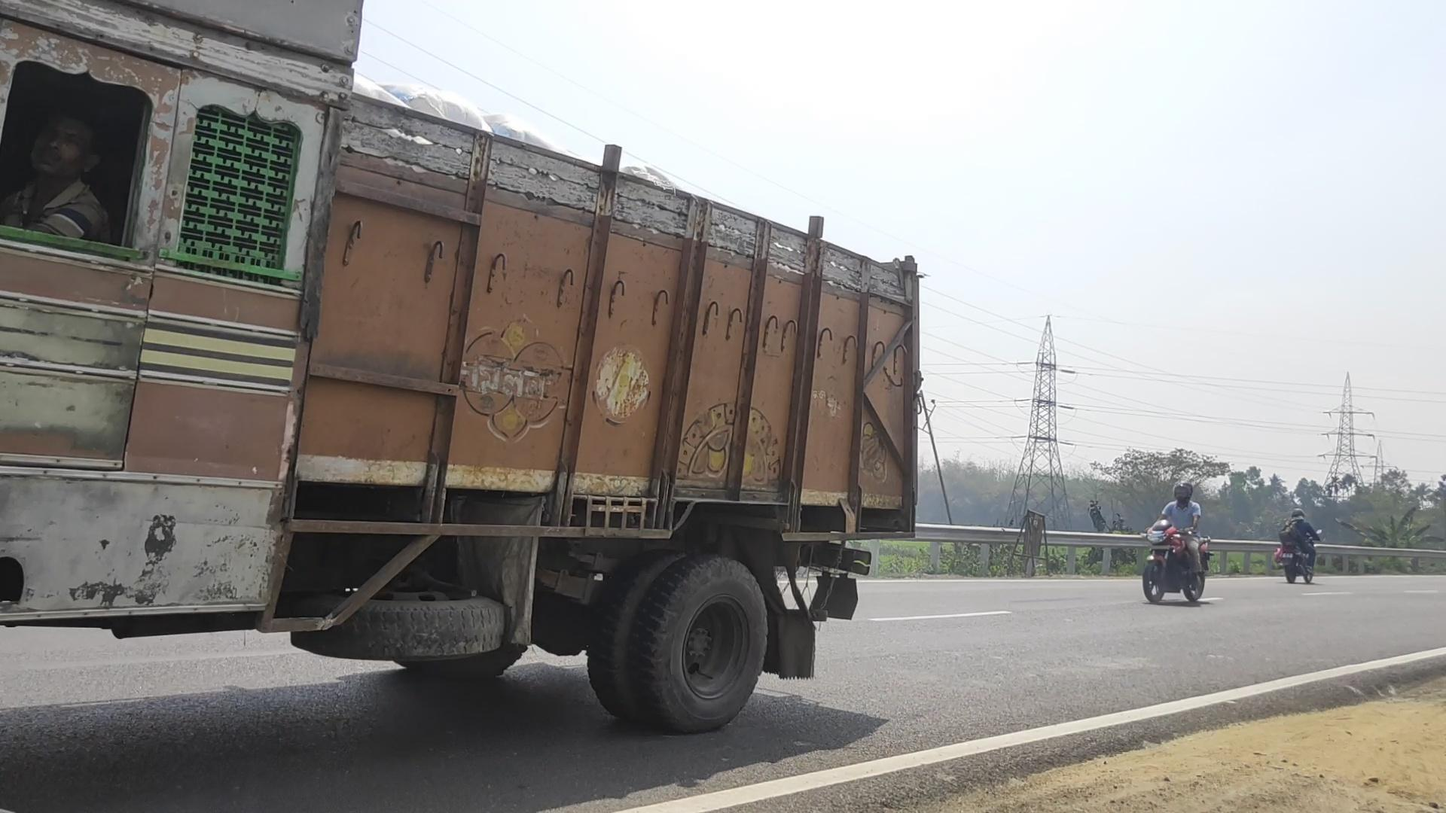bike: (1139, 480, 1214, 604), (1274, 508, 1322, 586)
truck: (2, 2, 922, 813)
